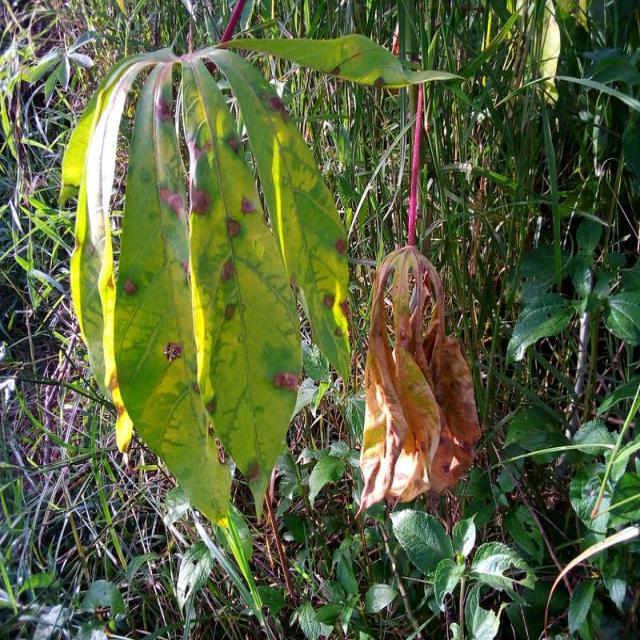cassava leaf: (65, 44, 353, 531), (179, 51, 305, 523), (113, 56, 234, 526), (357, 243, 482, 515)
